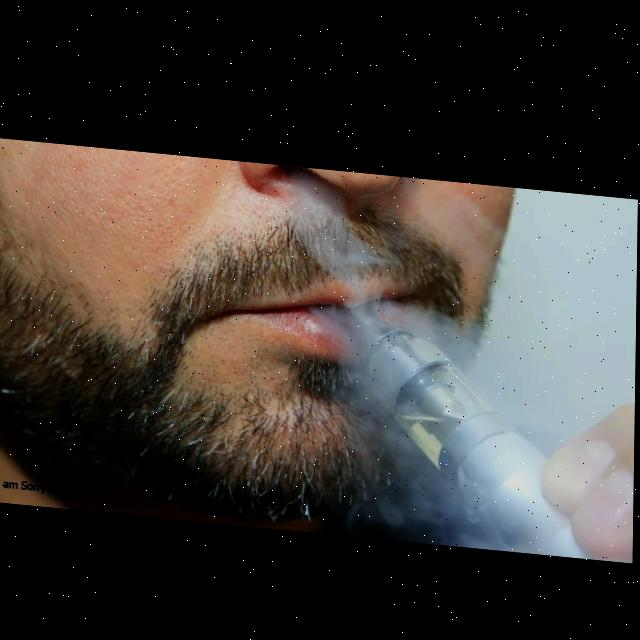vape: (335, 296, 590, 547)
